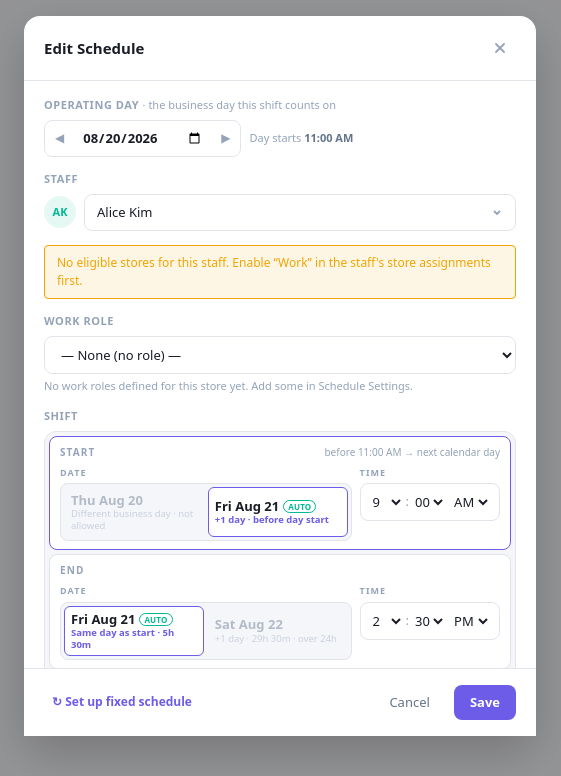
Test: ScheduleEditModal — 시작 달력일 › 비활성 이유가 경계·결과·해법(영업일 변경)을 모두 말한다
Select "5" in the dropdown named "Hour" below "before 11:00 AM → next calendar day" at (386, 502), box [369, 492, 404, 512]
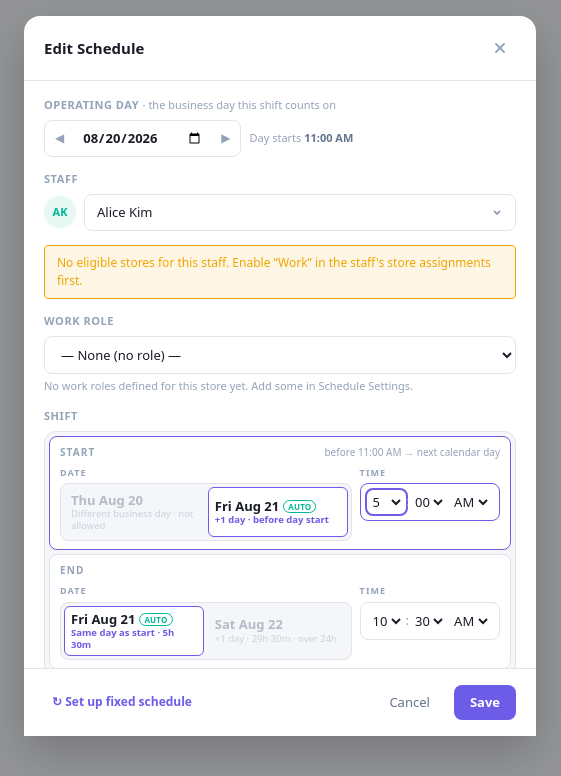
Select "PM" in the dropdown named "AM/PM" below "before 11:00 AM → next calendar day" at (471, 502), box [450, 492, 491, 512]
(page scrolled)
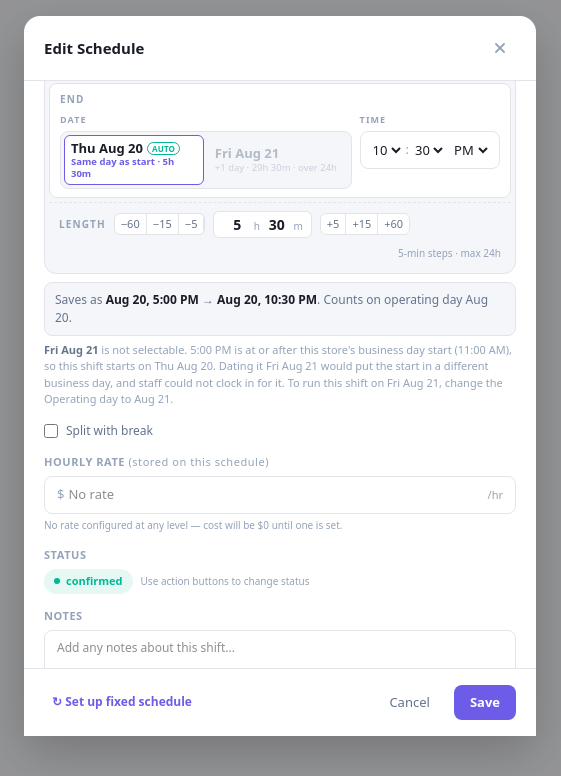
Check: the element with test id "start-date-locked-reason" shows "5:00 PM", box [44, 342, 512, 406]
Check: the element with test id "start-date-locked-reason" shows "11:00 AM", box [44, 342, 512, 406]
Check: the element with test id "start-date-locked-reason" shows "could not clock in", box [44, 342, 512, 406]
